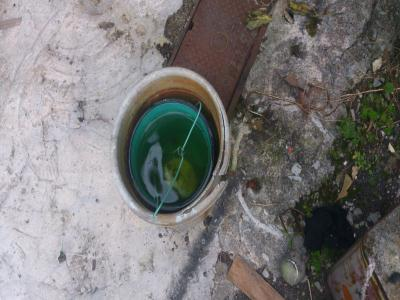bucket: (108, 65, 235, 230)
